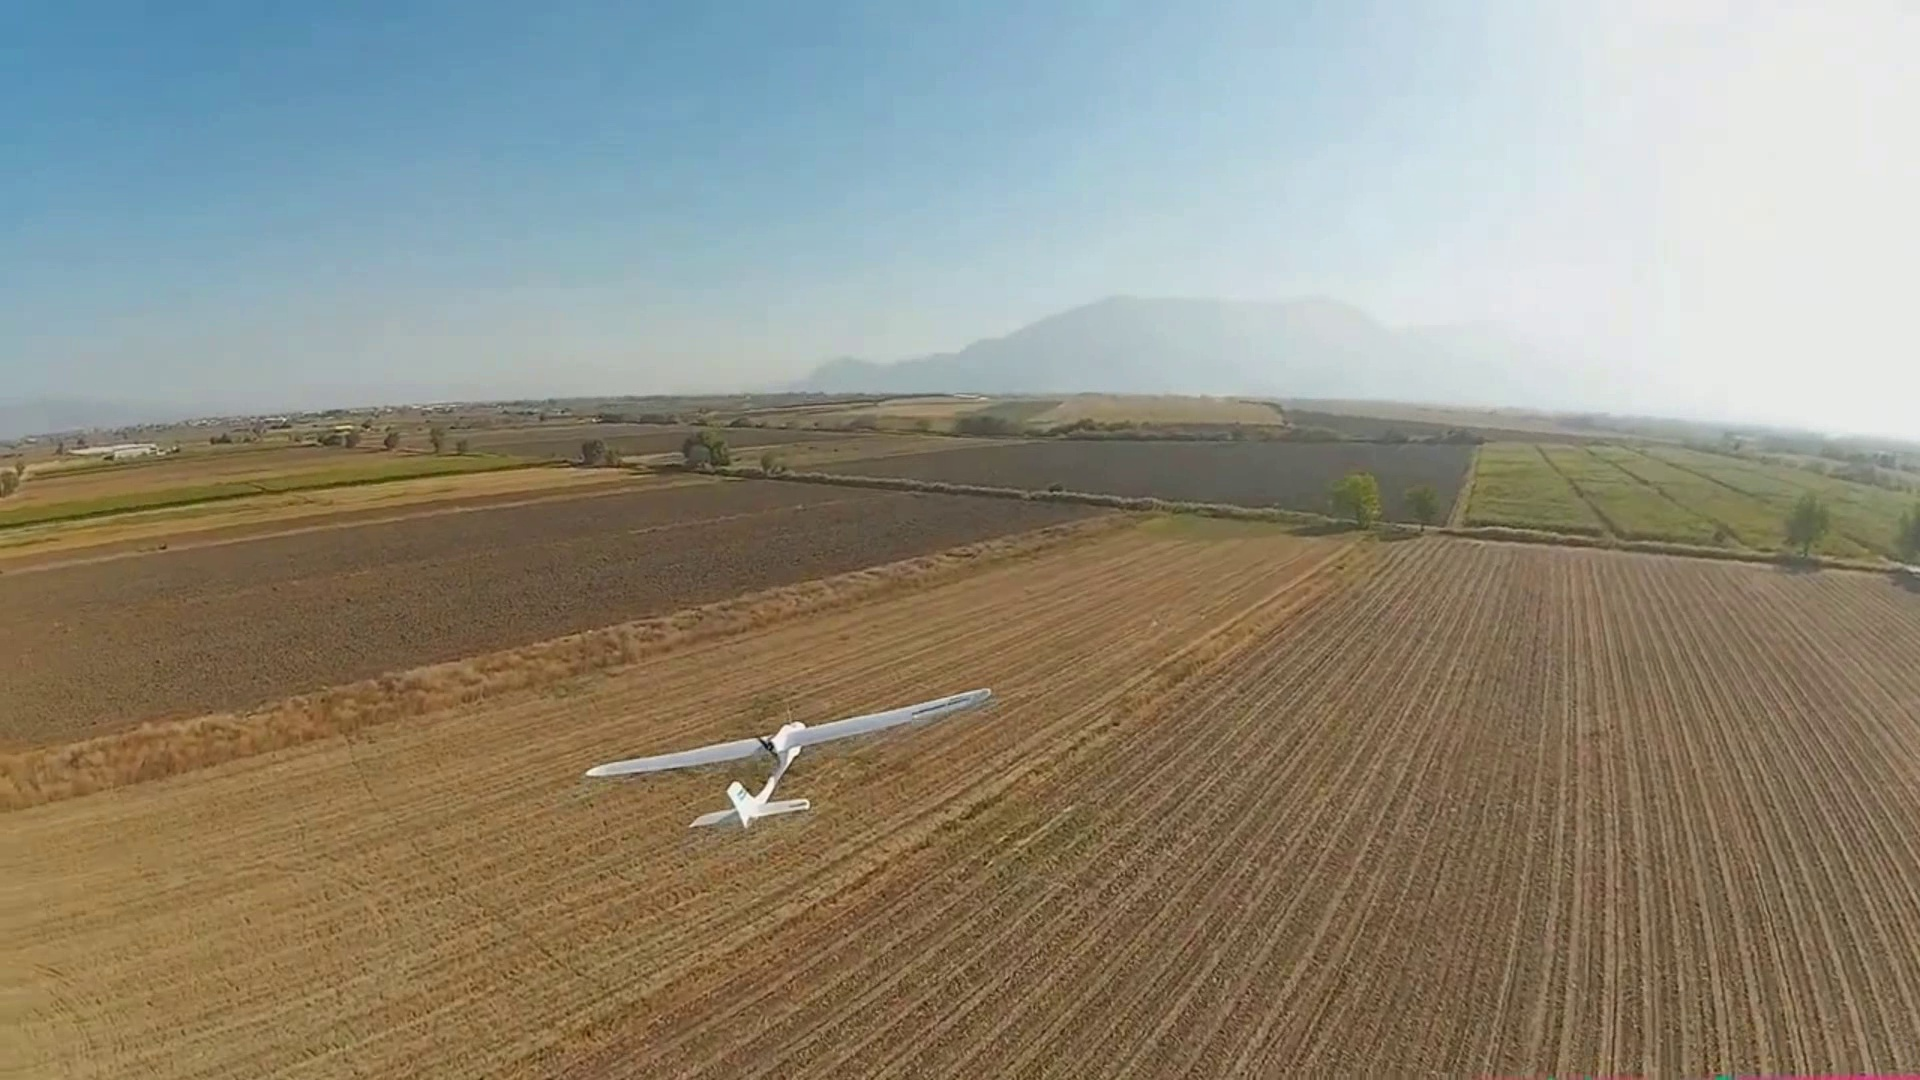airplane: (581, 689, 997, 832)
